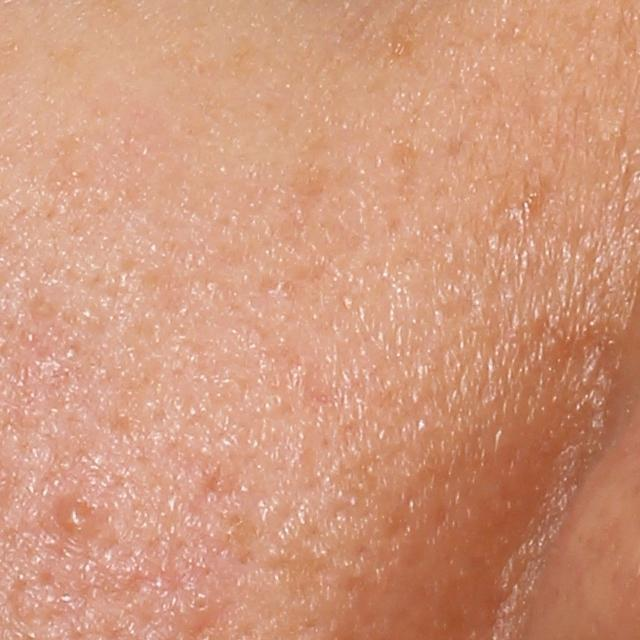comedo: (178, 585, 213, 618)
papule: (52, 489, 105, 542)
